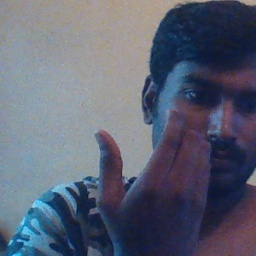U: (87, 112, 215, 235)
